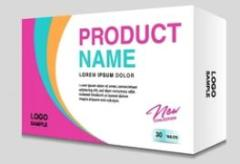paper: (20, 4, 226, 156)
